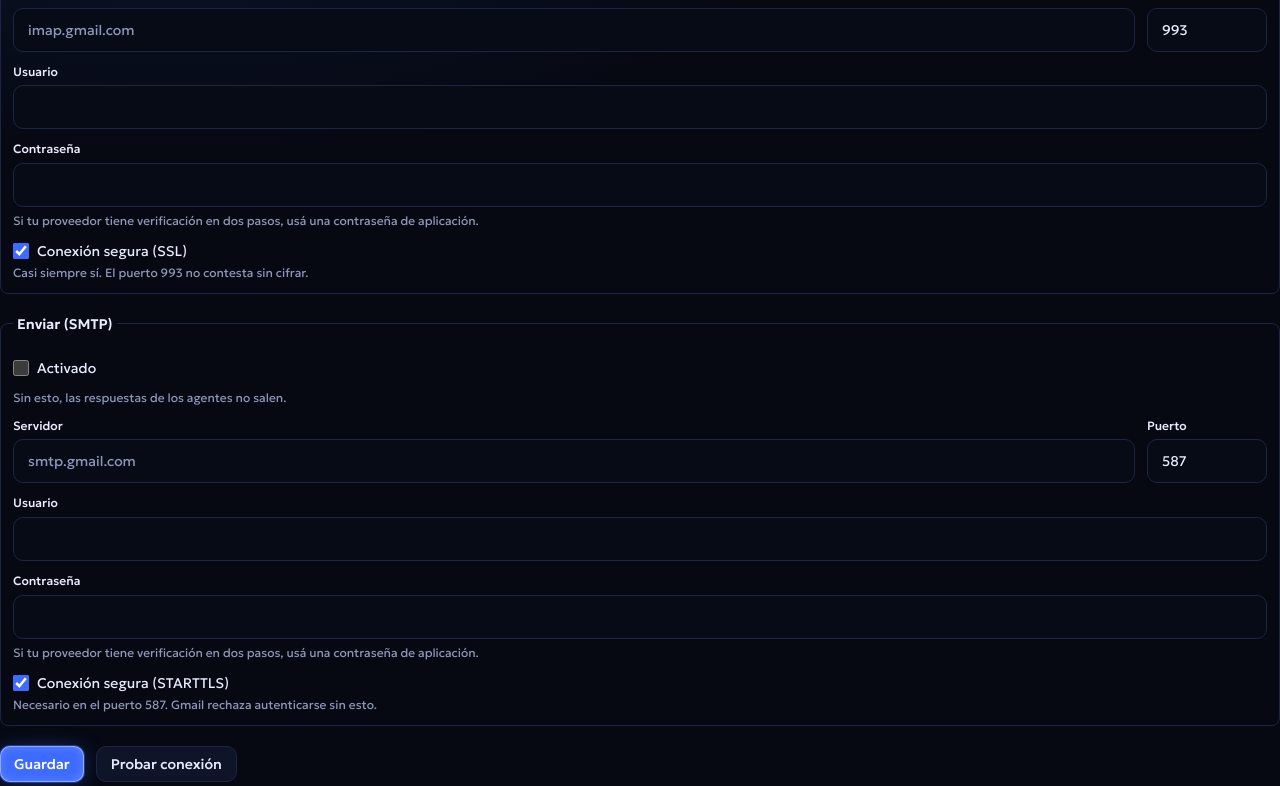
Test case: EmailTransportPanel, testing the connection › shows the reason a side failed, not just that it did
(page scrolled)
Click the button "Probar conexión": (166, 764) [96,746,237,782]
(page scrolled)
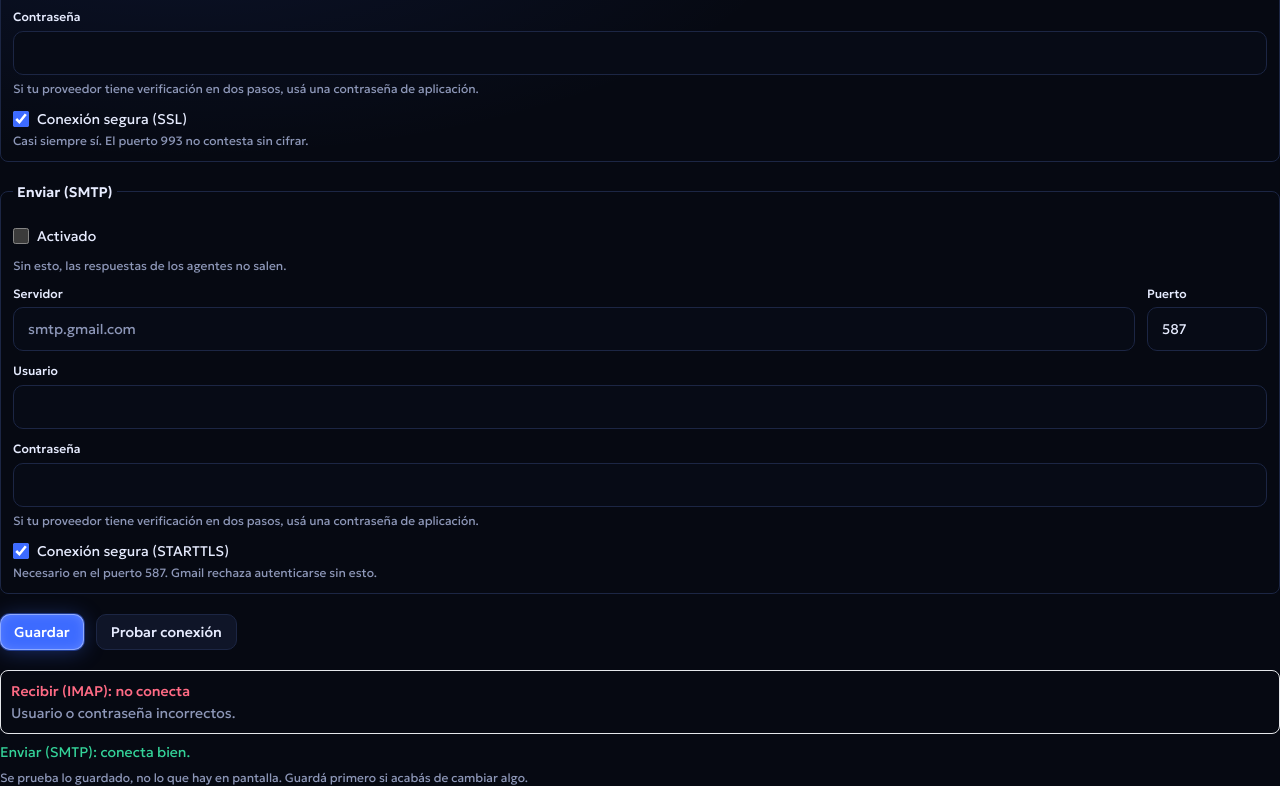
Check: the text "Usuario o contraseña incorrectos." is shown, box [11,704,236,722]
